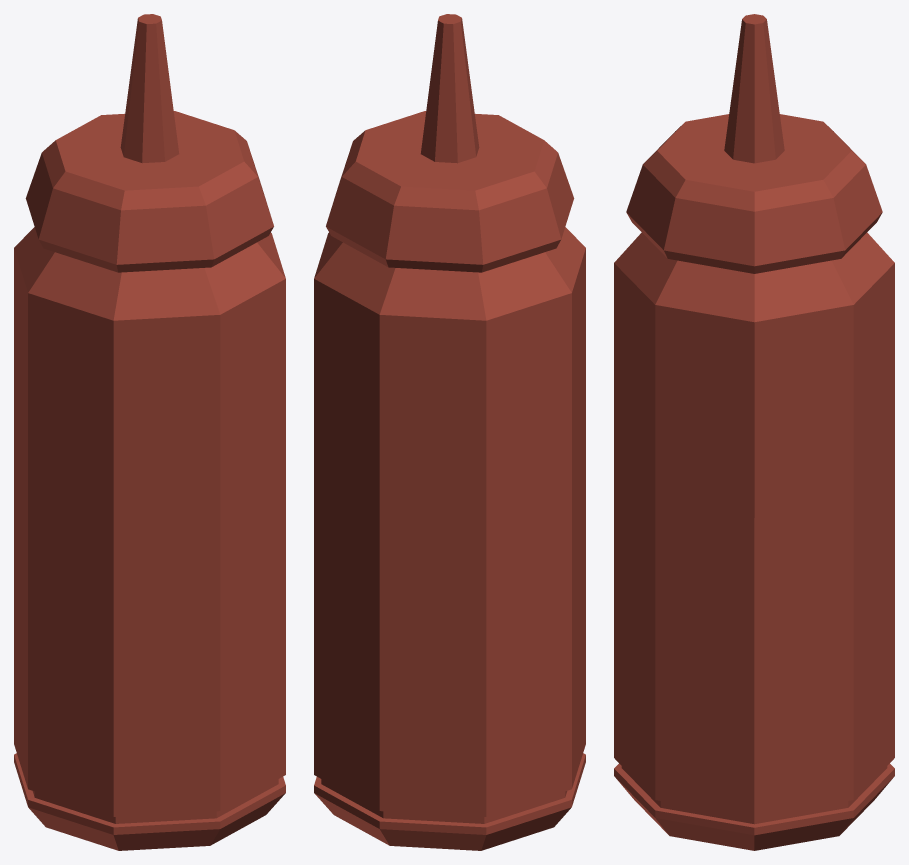
3 views of the same model, side by side, from view 1: azimuth 30°, elevation 25°; view 2: azimuth 150°, elevation 25°; view 3: azimuth 270°, elevation 25° (orthographic).
Parts seen in each view (by area): view 1: mesh_0; view 2: mesh_0; view 3: mesh_0.
Boxes of the visible parts, x1,y1,x2,y2 form: mesh_0: (14,14,285,850); mesh_0: (314,14,585,850); mesh_0: (614,14,894,850).
Bounding box in the file's own units: 0.4996 × 1.53 × 0.4996.
